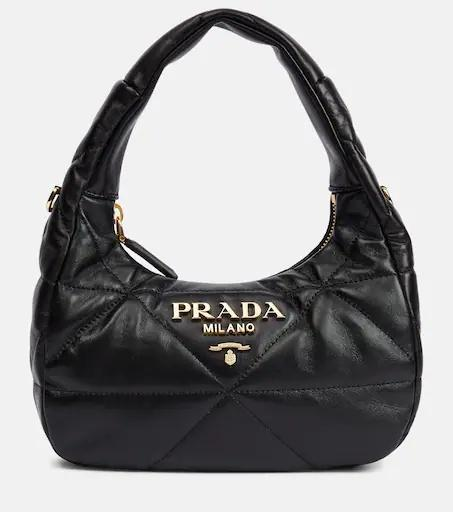PRADA: (131, 289, 327, 392)
